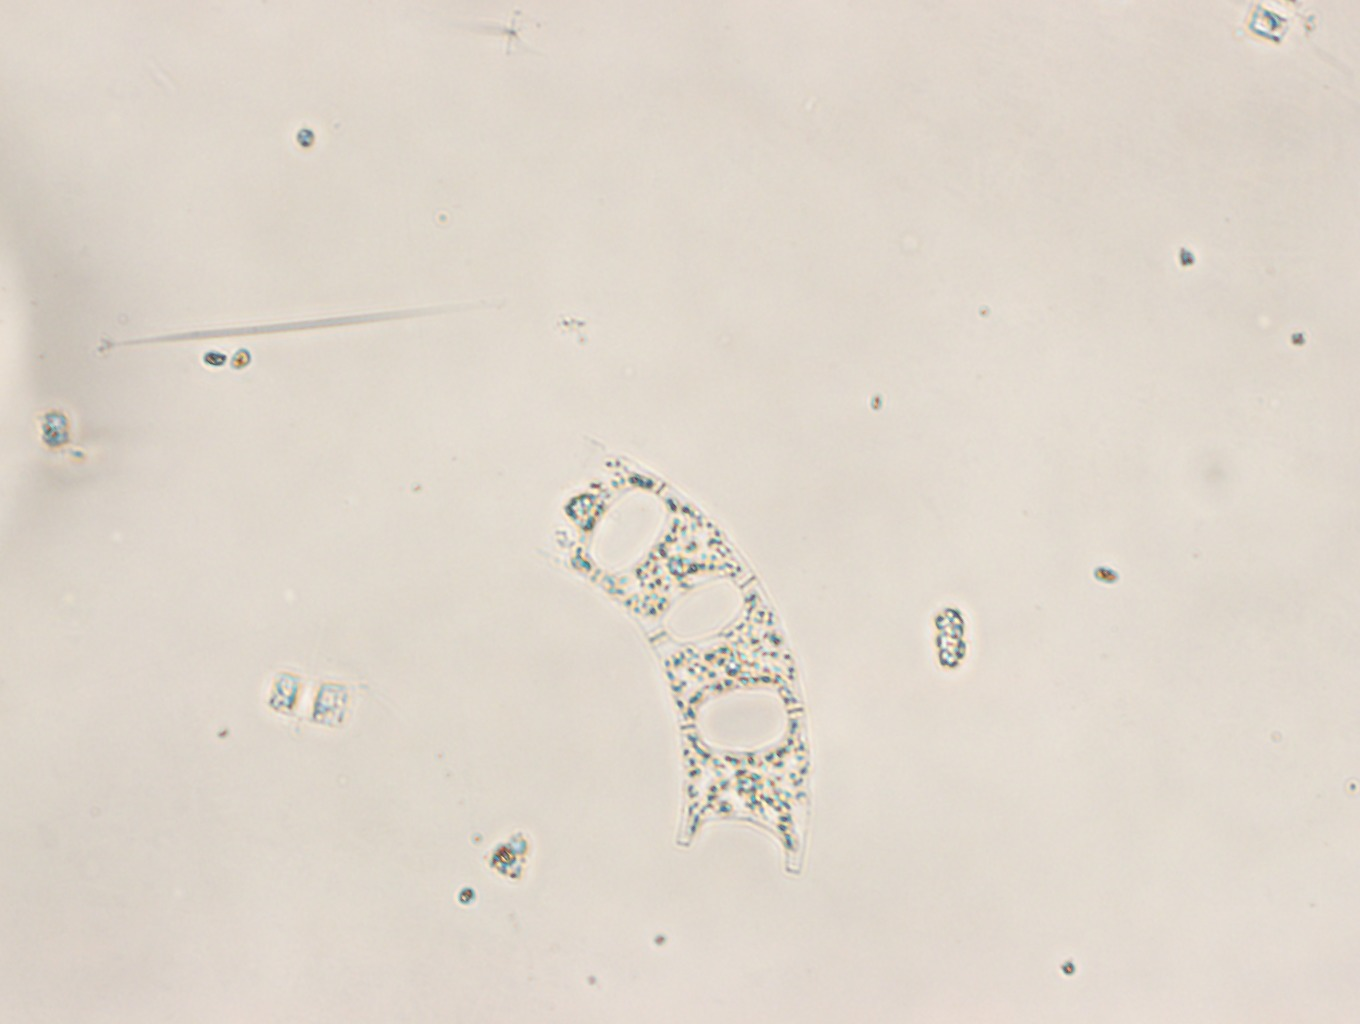eucampia: (535, 435, 810, 877)
skeletonema: (266, 667, 363, 731)
